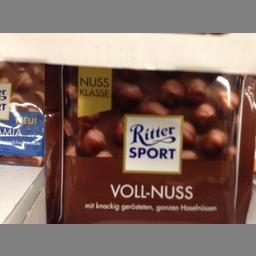chocolate: (42, 62, 255, 223)
